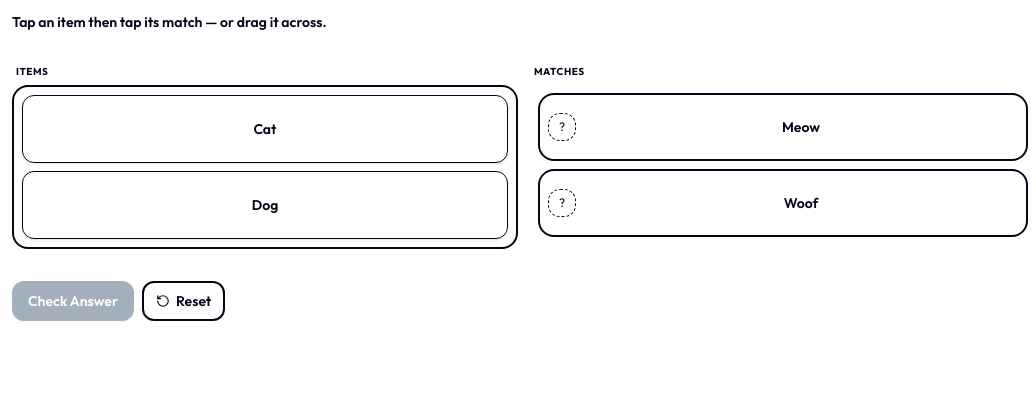
Test: MatchPairsViewer feedback › uses the custom "all correct" message when provided
Click the button "Cat".
click(265, 129)  # box [22,95,508,163]
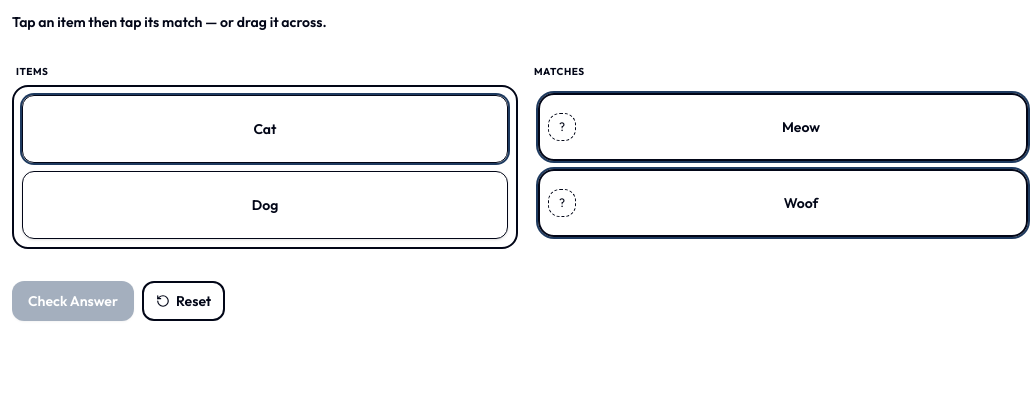
Click the text "Meow".
click(801, 127)  # box [782,117,820,137]
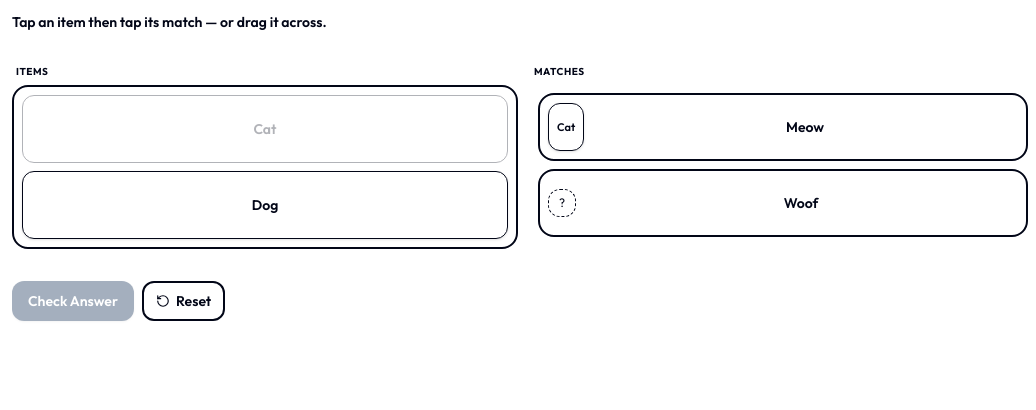
Click the button "Dog".
click(265, 205)  # box [22,171,508,239]
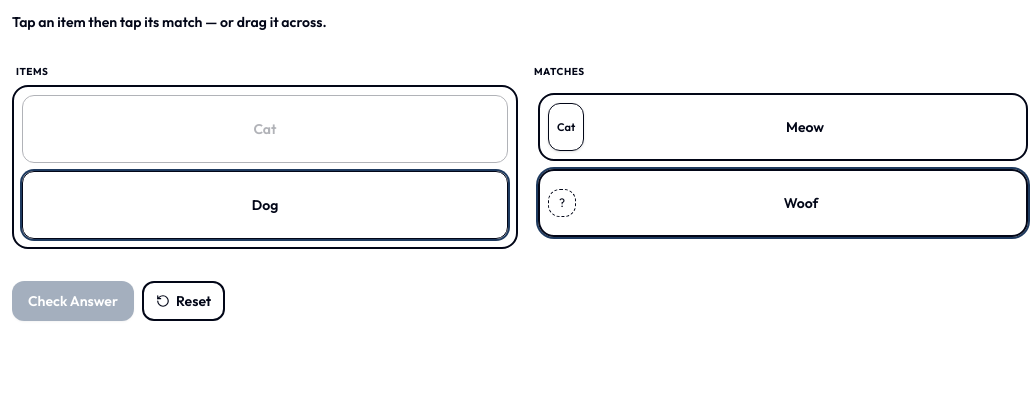
Click the text "Woof".
click(801, 203)  # box [784,193,818,213]
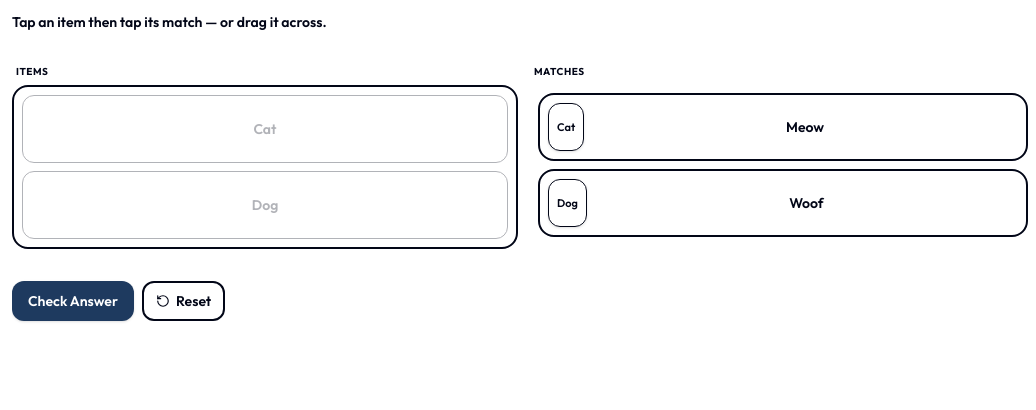
Click the button "Check Answer".
click(73, 301)  # box [12,281,134,321]
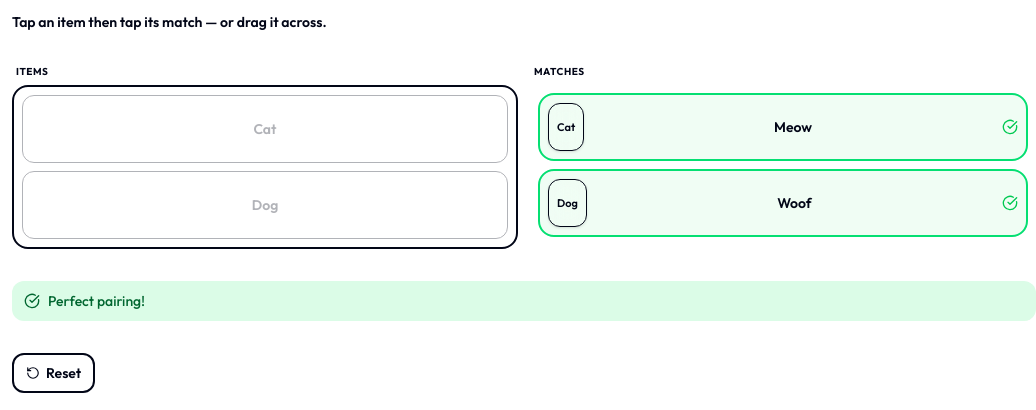
expect the text "Perfect pairing!" is shown: met, box [12,281,1035,321]
